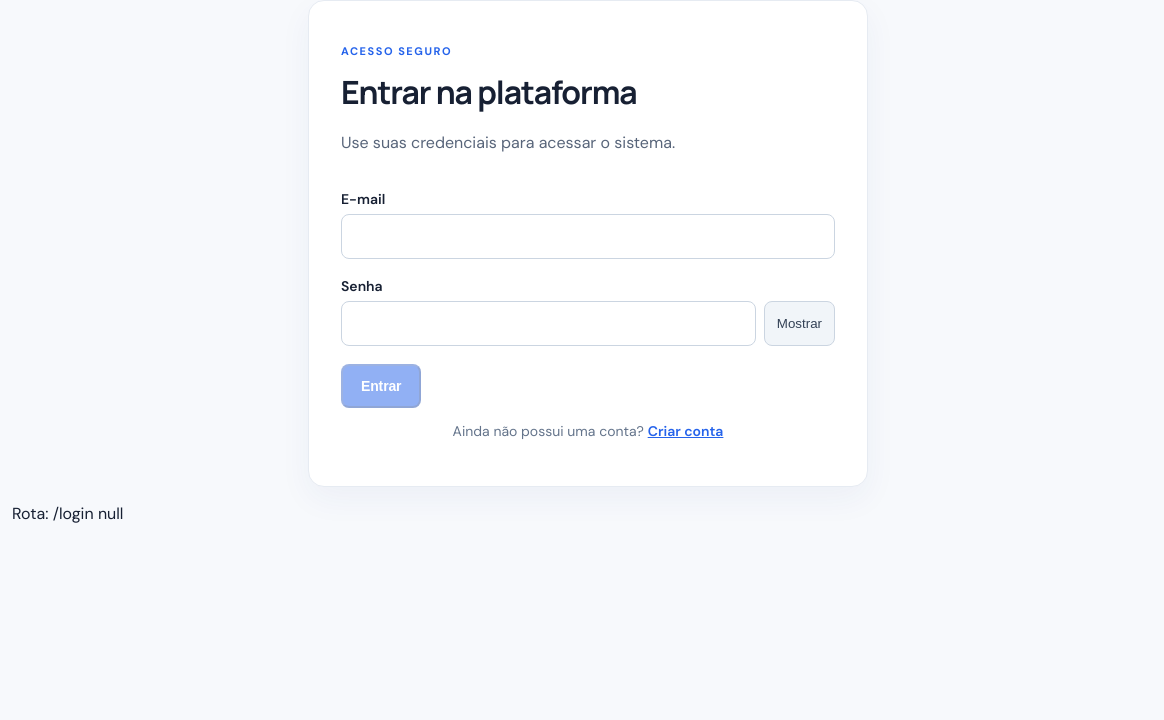
Test: password login stores the token in memory and goes to the dashboard
In the field labelled "E-mail": (588, 236) [341,214,835,259], type "ana@example.com"
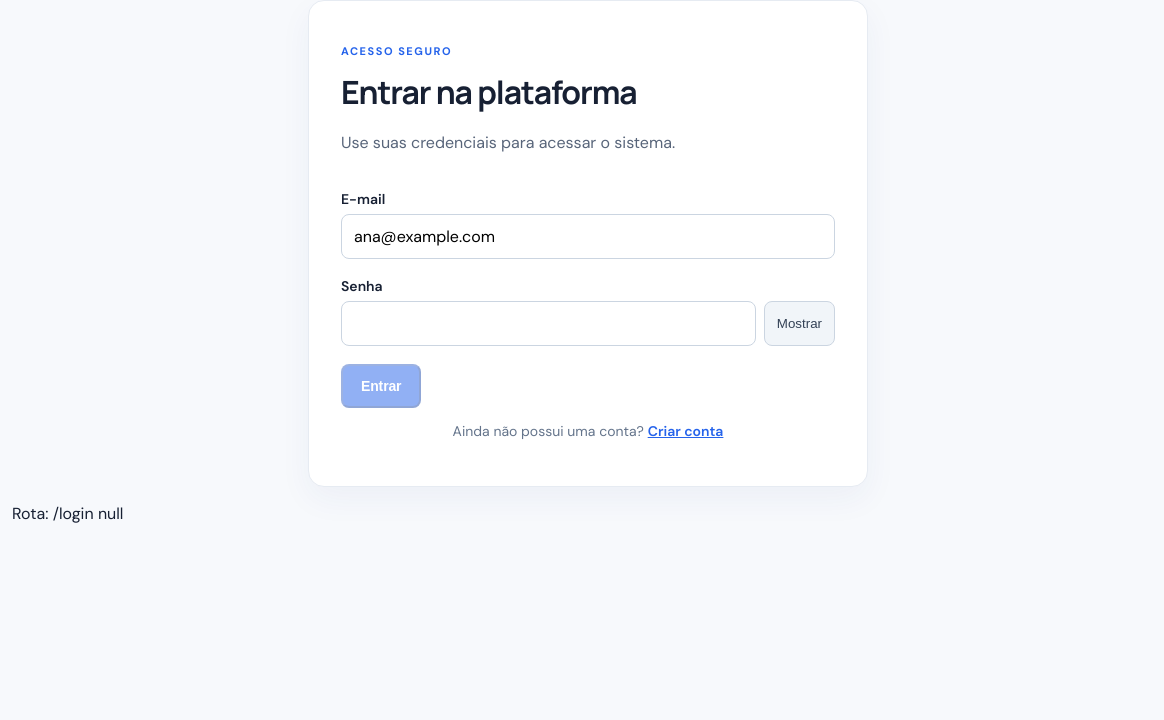
In the password field labelled "Senha": (548, 324) [341,301,756,346], type "not-a-real-secret"
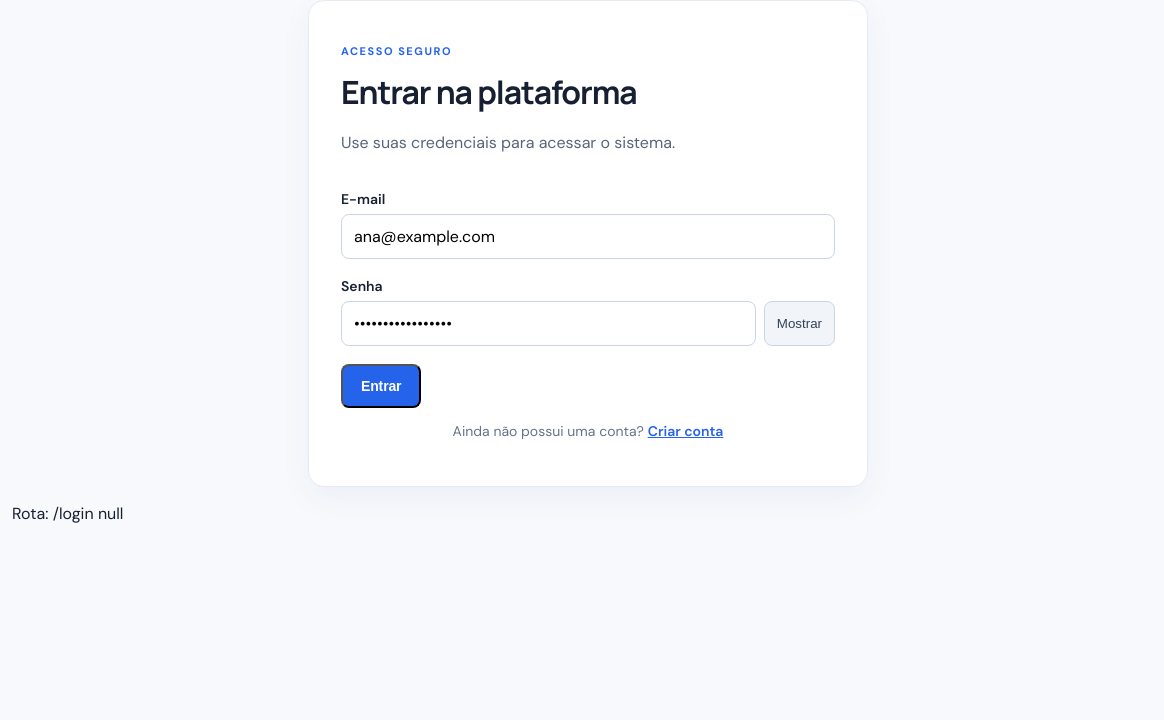
Click the button "Entrar": (381, 386) [341,364,421,408]
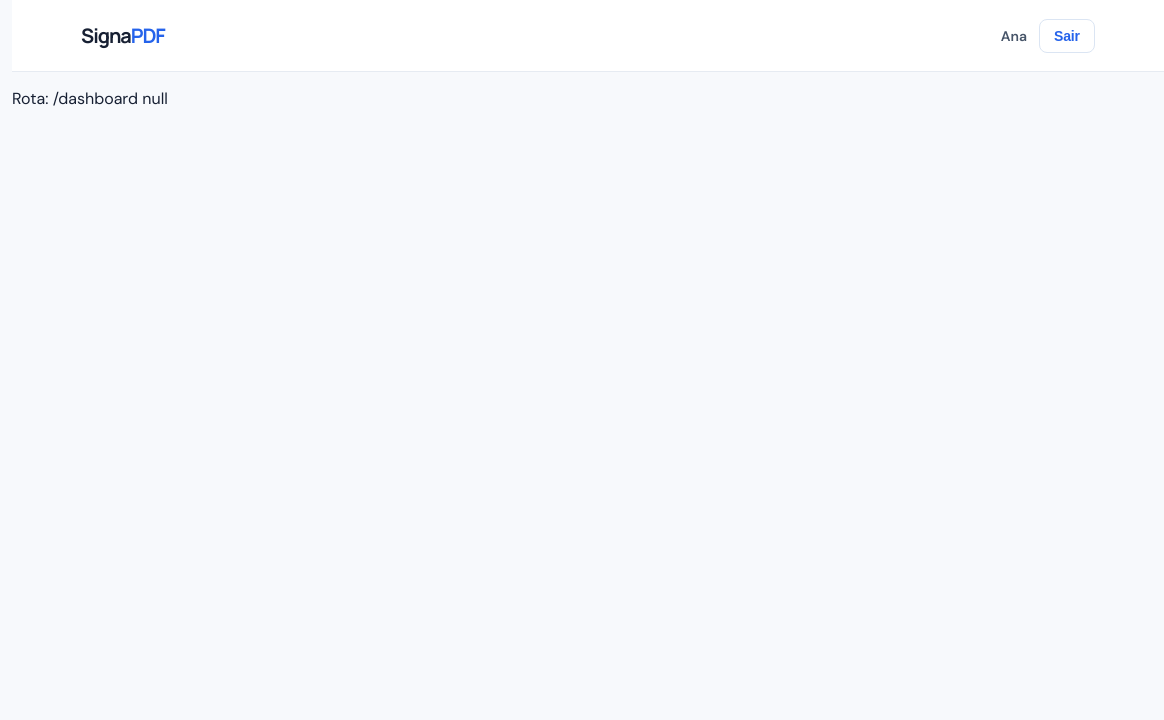
Result: the text "Rota: /dashboard null" is shown at [12,88,168,109]
